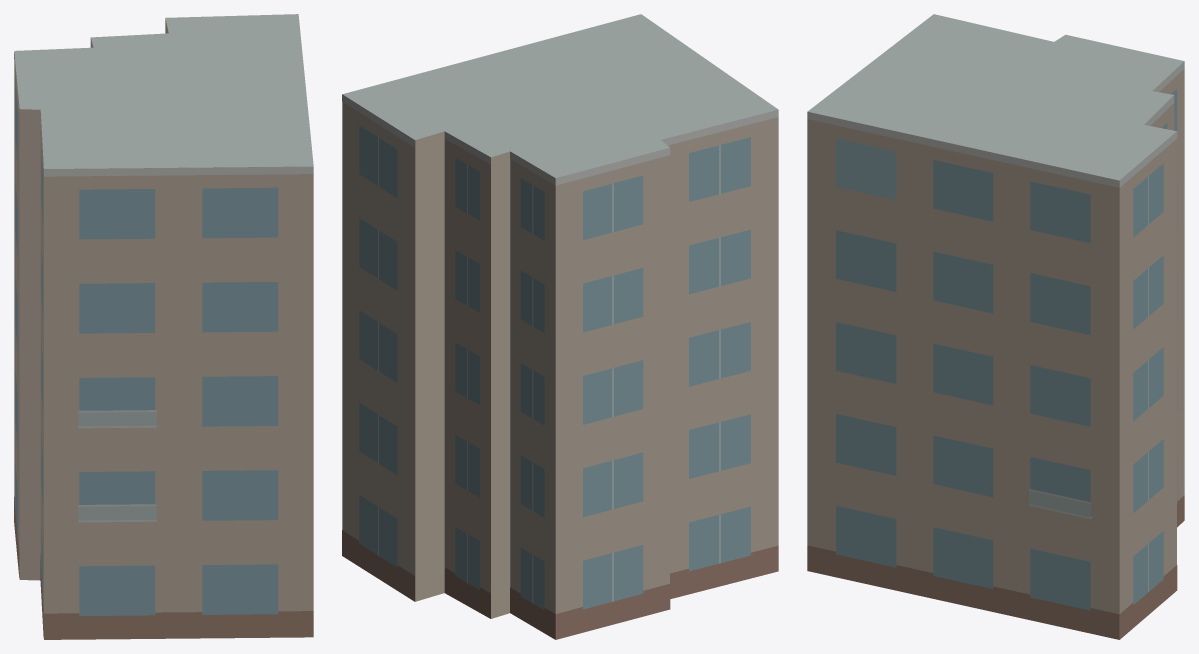
Rendered from survey-upis-32962364.glb.
3 views of the same model, side by side, from view 1: azimuth 30°, elevation 25°; view 2: azimuth 150°, elevation 25°; view 3: azimuth 270°, elevation 25° (orthographic). The views are drawn at different scales.
Parts seen in each view (by area): view 1: survey-upis-32962364.tmp; view 2: survey-upis-32962364.tmp; view 3: survey-upis-32962364.tmp.
Boxes of the visible parts, left/top/right/bottom form: survey-upis-32962364.tmp: left=14, top=14, right=313, bottom=639; survey-upis-32962364.tmp: left=342, top=14, right=778, bottom=639; survey-upis-32962364.tmp: left=807, top=14, right=1184, bottom=639.
Size of the model in its own units: 11.87 by 15.25 by 11.36.
